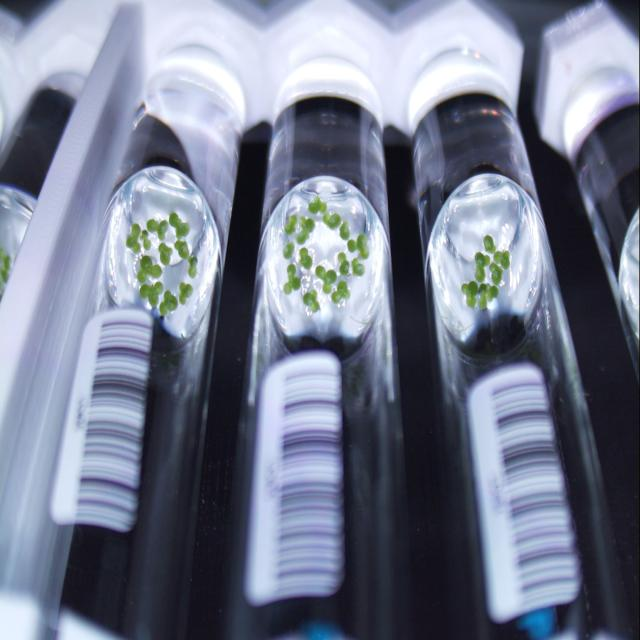Lemna-Gibba: (138, 255, 162, 284), (139, 282, 162, 309), (315, 265, 336, 294), (295, 215, 315, 245), (169, 212, 190, 240), (348, 233, 369, 259), (478, 284, 499, 309), (159, 290, 178, 317), (461, 280, 479, 308), (284, 264, 300, 294), (475, 252, 490, 284), (126, 223, 141, 254), (331, 280, 350, 304), (146, 218, 168, 238), (302, 290, 320, 312), (494, 250, 510, 270), (159, 242, 172, 265), (322, 212, 340, 228), (179, 282, 192, 304), (299, 247, 312, 269), (174, 240, 189, 259), (490, 262, 502, 285), (139, 230, 152, 250), (309, 198, 326, 213), (284, 215, 298, 233), (188, 255, 198, 279), (339, 254, 350, 275), (484, 235, 496, 254), (351, 259, 365, 275), (282, 242, 294, 259), (340, 222, 350, 240)
